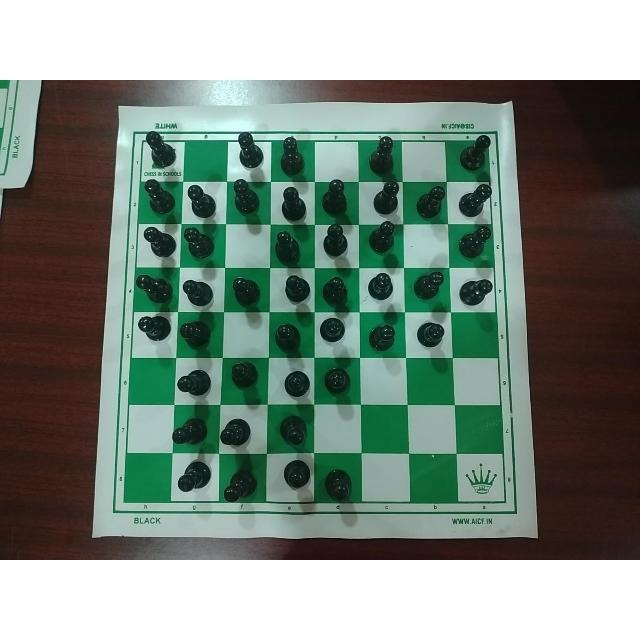black-pawn: (453, 131, 495, 175), (138, 129, 180, 169), (226, 173, 264, 217), (367, 130, 403, 176), (133, 267, 174, 307), (171, 458, 213, 497), (275, 129, 309, 177), (231, 129, 267, 173), (170, 415, 210, 454), (140, 178, 178, 218), (459, 180, 497, 220), (228, 272, 268, 308), (319, 272, 355, 312), (323, 462, 359, 502), (183, 178, 218, 219), (170, 368, 217, 398), (274, 182, 310, 221), (134, 313, 173, 349), (277, 412, 313, 451), (182, 223, 218, 261), (178, 320, 216, 356), (220, 412, 255, 451), (414, 182, 448, 222), (459, 273, 495, 310), (224, 466, 260, 503), (319, 176, 352, 216), (365, 266, 398, 306), (141, 223, 177, 259), (459, 224, 495, 260), (180, 274, 216, 309), (225, 356, 260, 392), (411, 267, 444, 305), (272, 225, 304, 264), (318, 219, 350, 258), (414, 318, 448, 354), (367, 219, 399, 257), (273, 317, 306, 353), (282, 367, 314, 403), (280, 270, 311, 307), (369, 181, 403, 214), (282, 457, 313, 493), (315, 314, 345, 350), (366, 322, 399, 354), (321, 366, 355, 396)
